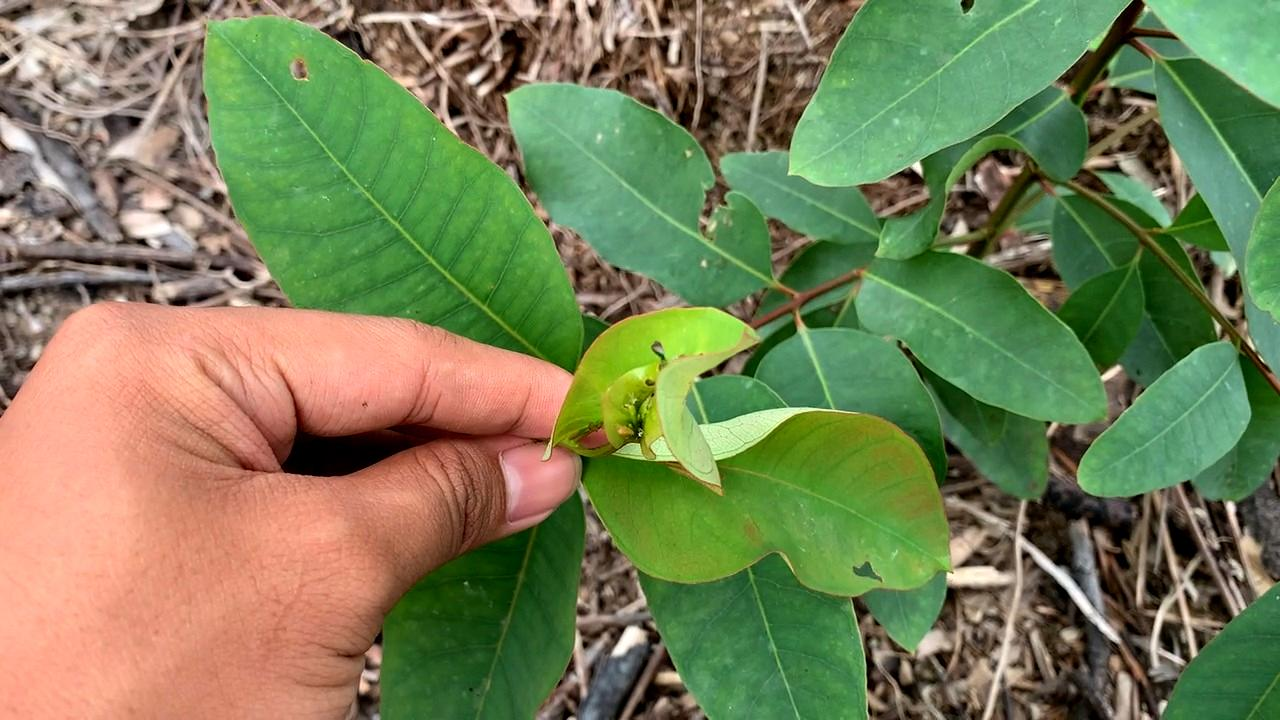Leaf Roller - Leaf: (566, 299, 762, 497)
